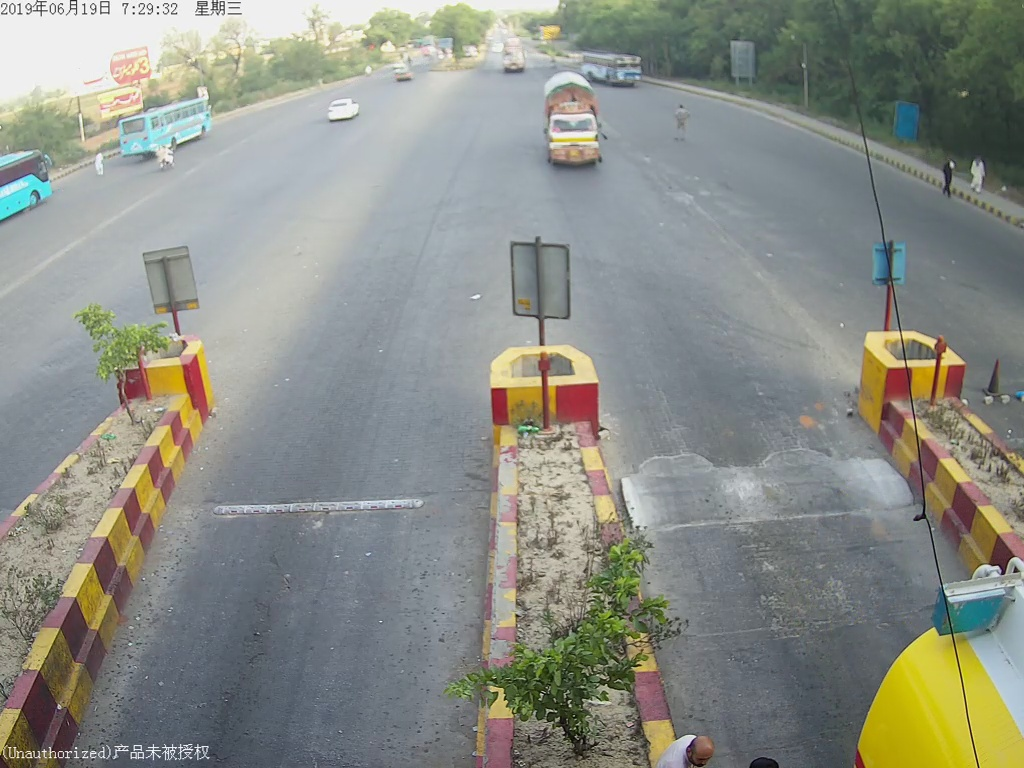Cat-4: (536, 76, 619, 174)
